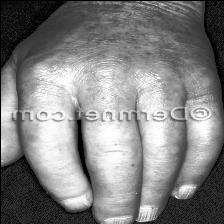Unclassified: (68, 0, 190, 96)
